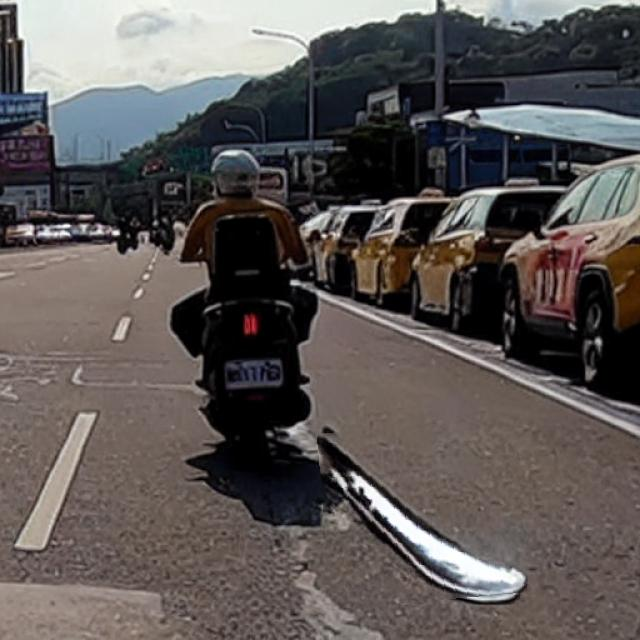puddle: (321, 422, 527, 606)
